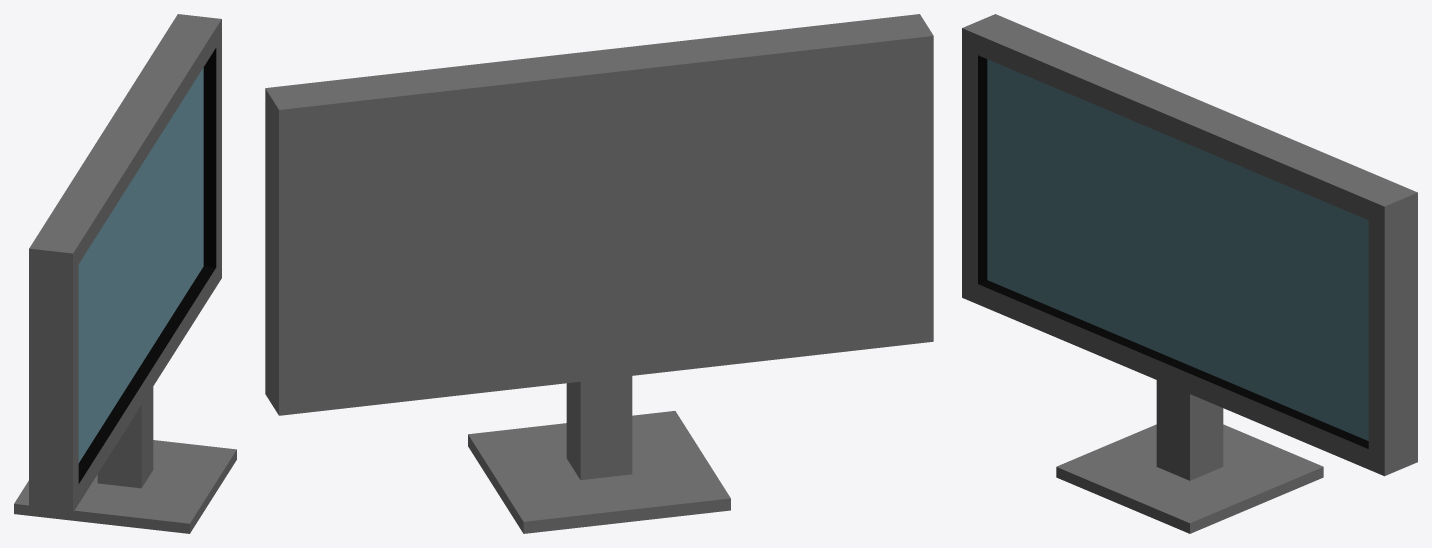
File: Monitor.fbx
The picture shows the model from 3 angles, left to right: view 1: azimuth 30°, elevation 25°; view 2: azimuth 150°, elevation 25°; view 3: azimuth 270°, elevation 25°; orthographic projection. The views are drawn at different scales.
Parts seen in each view (by area): view 1: Scheibe; view 2: Scheibe; view 3: Scheibe.
Boxes of the visible parts, <box> form: Scheibe: <box>14,14,236,533</box>; Scheibe: <box>265,14,933,533</box>; Scheibe: <box>962,14,1417,533</box>.
Size of the model in its own units: 341 by 303 by 341.
